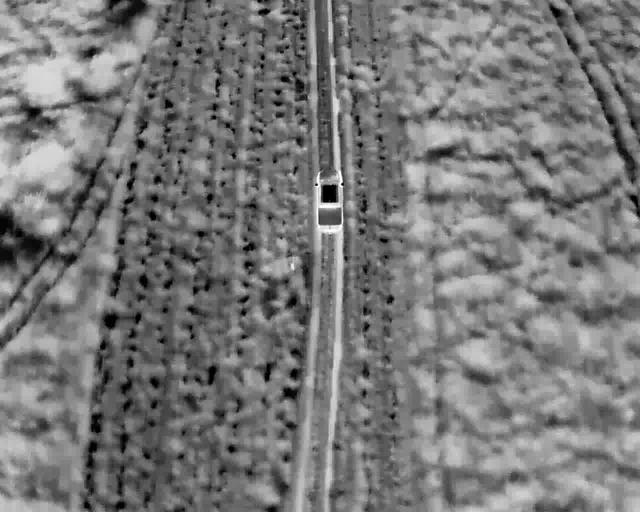car: (314, 167, 344, 231)
